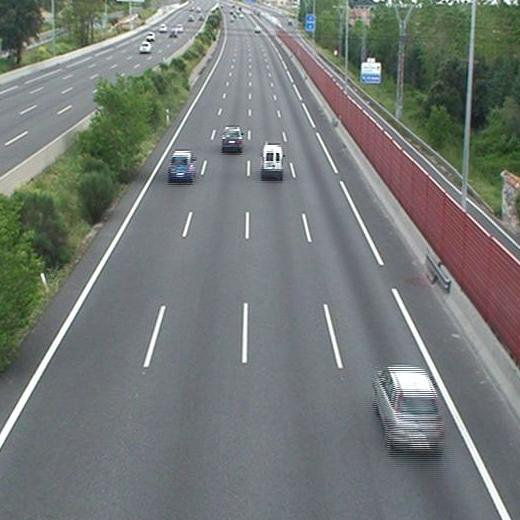car: (373, 367, 442, 450), (168, 152, 194, 177), (221, 127, 242, 148)
van: (261, 144, 283, 176)
